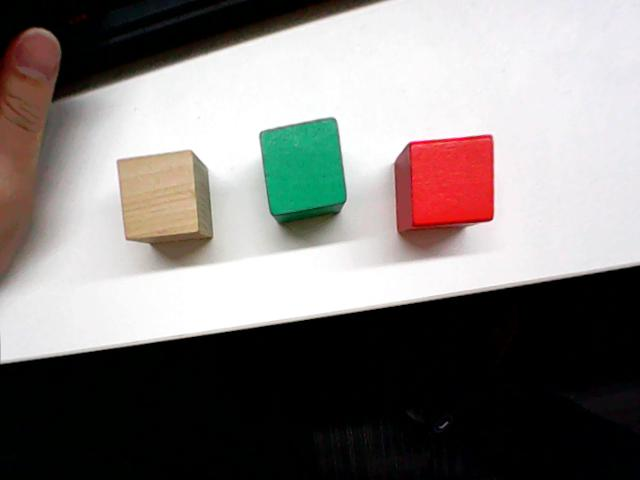green_box: (256, 113, 349, 225)
raw_box: (113, 146, 220, 244)
red_box: (391, 130, 498, 235)
